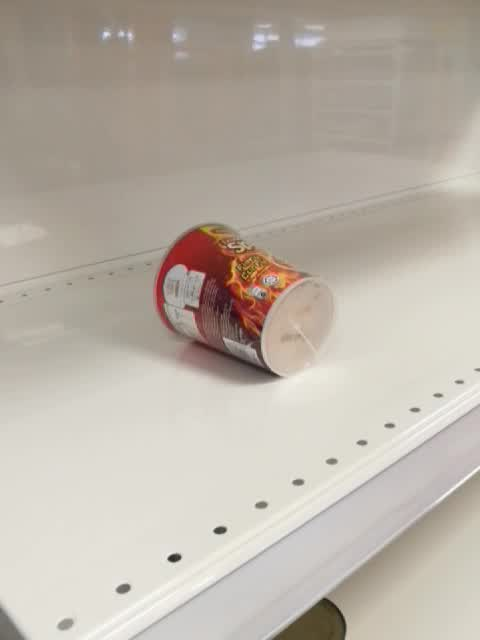maggi: (152, 221, 335, 380)
